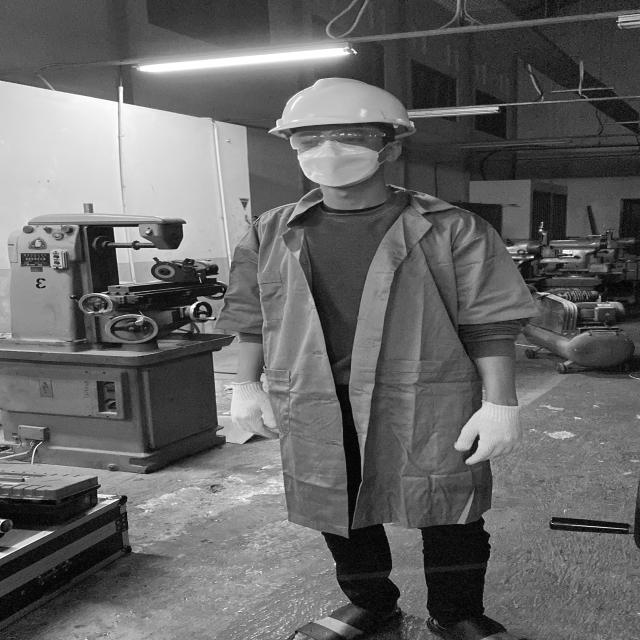face_mask: (288, 126, 391, 188)
glasses: (282, 126, 394, 152)
hand_glove: (449, 397, 528, 465), (218, 392, 288, 443)
head_helmet: (268, 73, 417, 134)
person: (208, 76, 546, 640)
